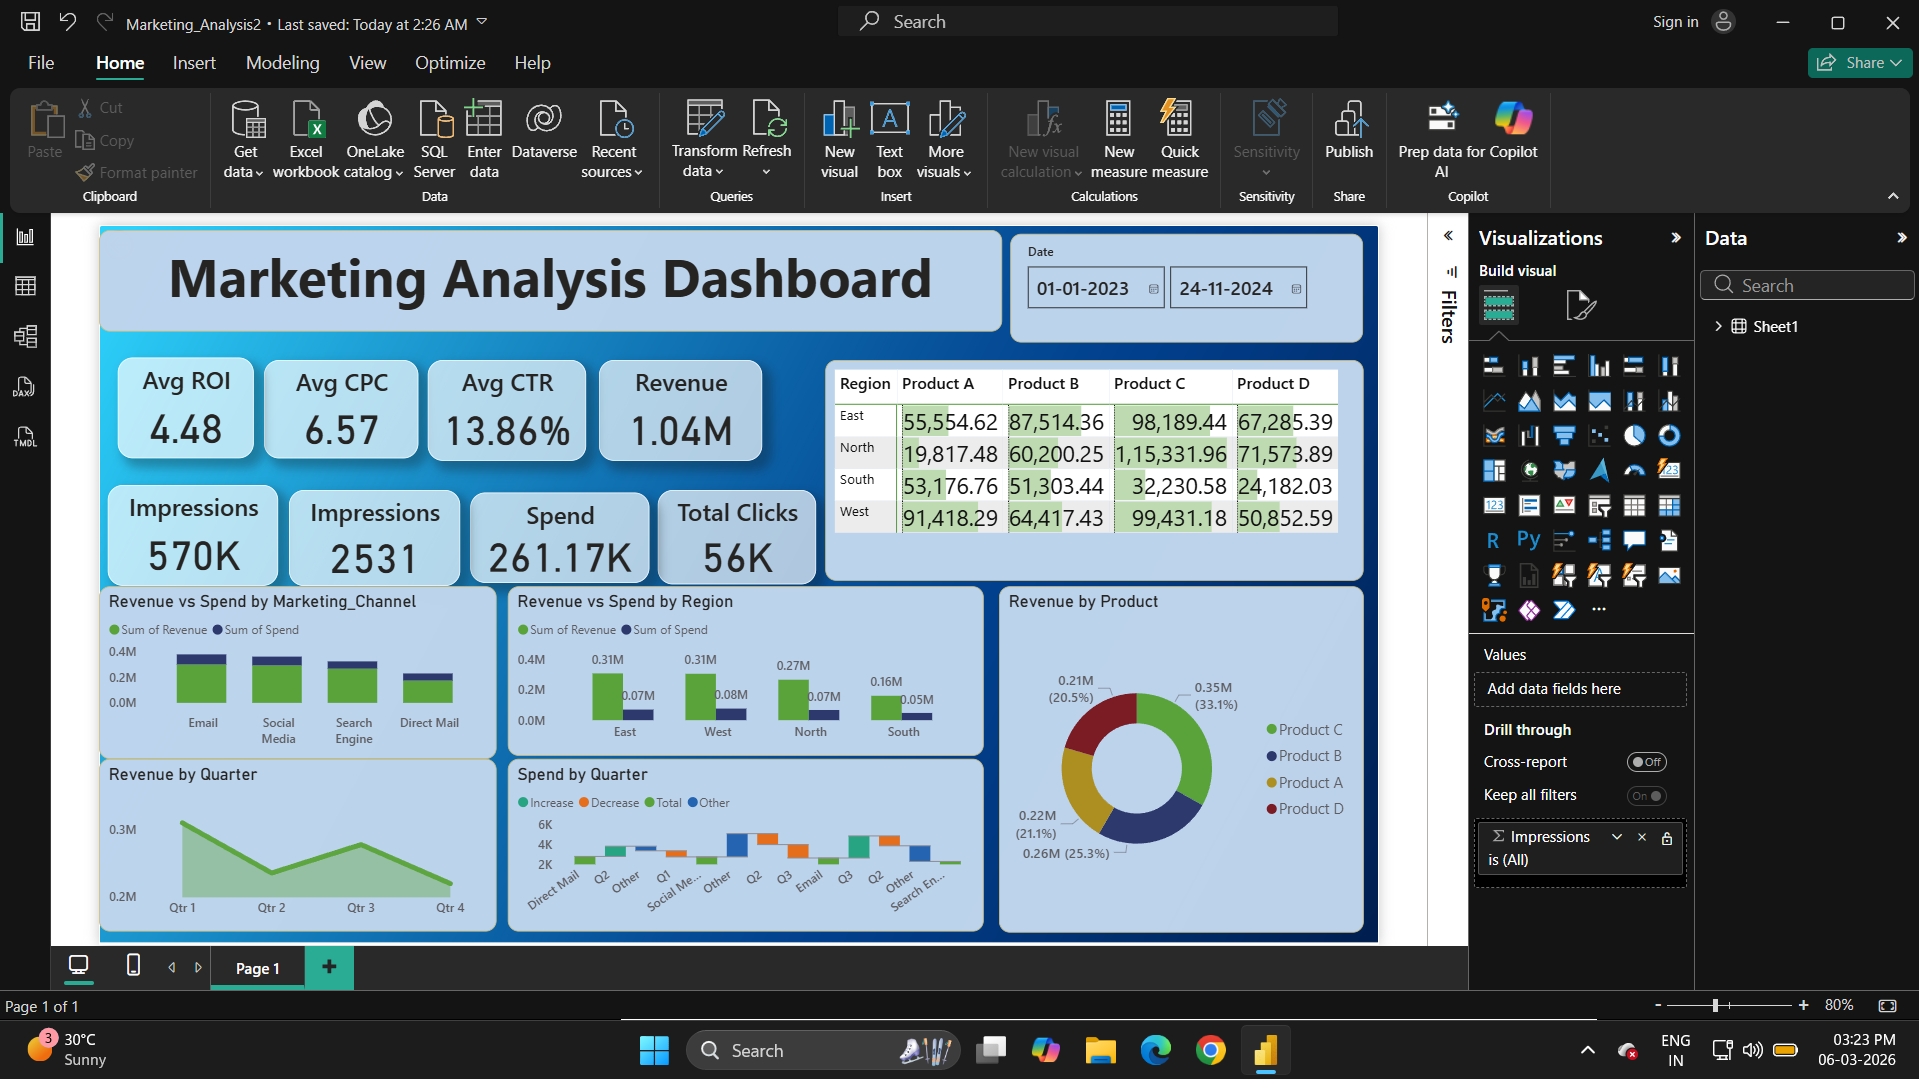

What the dashboard file says about the page in this screenshot:
{"tool":"powerbi","page":{"name":"Page 1","canvas":[1280,720],"ordinal":0},"visuals":[{"type":"card","title":"Total Clicks","fields":{"Values":["Sum(Sheet1.Clicks)"]},"box":[558.3,265,158.3,94.5],"z":0},{"type":"card","title":"Avg CPC","fields":{"Values":["Avg(Sheet1.CPC)"]},"box":[163.8,135,155,110],"z":1000},{"type":"card","title":"Spend","fields":{"Values":["Sum(Sheet1.Spend)"]},"box":[370.9,267.3,179.1,90],"z":2000},{"type":"card","title":"Revenue","fields":{"Values":["Sum(Sheet1.Revenue)"]},"box":[498.8,135,182.5,110],"z":3000},{"type":"card","title":"Avg CTR","fields":{"Values":["Avg(Sheet1.CTR)"]},"box":[328.8,135,158.8,110],"z":4000},{"type":"card","title":"Impressions","fields":{"Values":["Sum(Sheet1.Impressions)"]},"box":[8.6,260.1,170.6,100.6],"z":5000},{"type":"actionButton","box":[0,0,100,40],"z":6000},{"type":"card","title":"Avg ROI","fields":{"Values":["Avg(Sheet1.ROI)"]},"box":[18.8,132.5,136.2,112.5],"z":7000},{"type":"card","title":"Impressions","fields":{"Values":["Sum(Sheet1.Conversions)"]},"box":[190,264.5,170.9,96.4],"z":8000},{"type":"textbox","box":[0,5,902.5,112.5],"z":9000},{"type":"slicer","fields":{"Values":["Sheet1.Date"]},"box":[911.4,8.6,352.9,108.6],"z":10000},{"type":"waterfallChart","title":"Spend by Quarter","fields":{"Category":["Sheet1.Marketing_Channel"],"Y":["Avg(Sheet1.Spend)"],"Breakdown":["Sheet1.Quarter"]},"box":[408.6,533.7,476.1,173],"z":11000},{"type":"donutChart","title":"Revenue by Product","fields":{"Y":["Sum(Sheet1.Revenue)"],"Category":["Sheet1.Product"]},"box":[900.6,360.7,364.4,346],"z":12000},{"type":"columnChart","title":"Revenue vs Spend by Marketing_Channel","fields":{"Y":["Sum(Sheet1.Revenue)","Sum(Sheet1.Spend)"],"Category":["Sheet1.Marketing_Channel"]},"box":[0,360.7,397.5,173],"z":13000},{"type":"clusteredColumnChart","title":"Revenue vs Spend by Region","fields":{"Y":["Sum(Sheet1.Revenue)","Sum(Sheet1.Spend)"],"Category":["Sheet1.Region"]},"box":[408.6,360.7,476.1,169.3],"z":14000},{"type":"areaChart","title":"Revenue by Quarter","fields":{"Y":["Sum(Sheet1.Revenue)"],"Category":["Sheet1.Date.Variation.Date Hierarchy.Quarter"]},"box":[0,533.7,397.5,173],"z":15000},{"type":"pivotTable","fields":{"Values":["Sum(Sheet1.Revenue)"],"Rows":["Sheet1.Region"],"Columns":["Sheet1.Product"]},"box":[726.2,135,538.8,221.2],"z":16000}]}

Visuals, with their boxes on the page's 1280x720 design canvas (x1, y1, x2, y2). These are canvas units, not pixel positions in the 1919x1079 screenshot, which may show the page scaled, cropped or inside an application window:
"Total Clicks" card: (x1=558, y1=265, x2=717, y2=360)
"Avg CPC" card: (x1=164, y1=135, x2=319, y2=245)
"Spend" card: (x1=371, y1=267, x2=550, y2=357)
"Revenue" card: (x1=499, y1=135, x2=681, y2=245)
"Avg CTR" card: (x1=329, y1=135, x2=488, y2=245)
"Impressions" card: (x1=9, y1=260, x2=179, y2=361)
actionButton: (x1=0, y1=0, x2=100, y2=40)
"Avg ROI" card: (x1=19, y1=132, x2=155, y2=245)
"Impressions" card: (x1=190, y1=264, x2=361, y2=361)
textbox: (x1=0, y1=5, x2=902, y2=118)
slicer - Sheet1.Date: (x1=911, y1=9, x2=1264, y2=117)
"Spend by Quarter" waterfallChart: (x1=409, y1=534, x2=885, y2=707)
"Revenue by Product" donutChart: (x1=901, y1=361, x2=1265, y2=707)
"Revenue vs Spend by Marketing_Channel" columnChart: (x1=0, y1=361, x2=398, y2=534)
"Revenue vs Spend by Region" clusteredColumnChart: (x1=409, y1=361, x2=885, y2=530)
"Revenue by Quarter" areaChart: (x1=0, y1=534, x2=398, y2=707)
pivotTable - Sum(Sheet1.Revenue) x Sheet1.Region: (x1=726, y1=135, x2=1265, y2=356)
